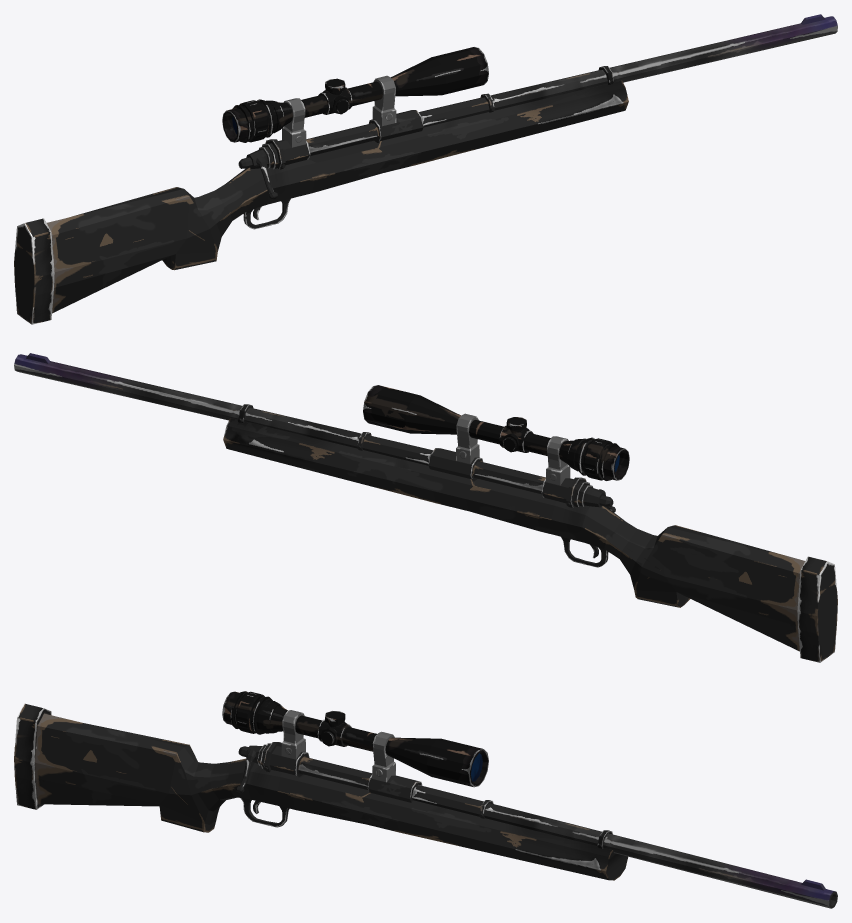
The picture shows the model from 3 angles, top to bottom: view 1: azimuth 30°, elevation 25°; view 2: azimuth 150°, elevation 25°; view 3: azimuth 330°, elevation 25°; orthographic projection.
Visible parts, largest first — view 1: Sniper; view 2: Sniper; view 3: Sniper.
Part boxes in pixels (x1,y1,x2,y2): Sniper: (14,14,837,324); Sniper: (14,353,837,662); Sniper: (14,691,837,908).
Size of the model in its own units: 2.12 by 0.4019 by 0.1355.
1 material, 1 textured.
